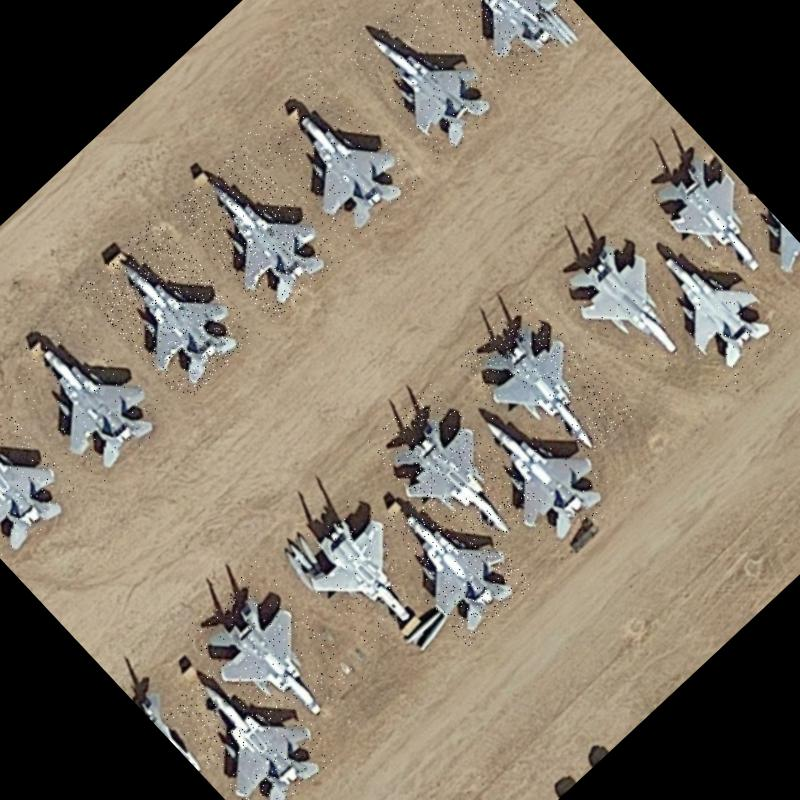A13: (439, 370, 626, 562), (178, 560, 365, 749), (77, 216, 264, 404), (242, 67, 426, 254), (540, 214, 722, 398), (456, 294, 636, 478), (366, 382, 546, 566), (0, 303, 176, 490), (168, 144, 346, 323), (624, 120, 794, 292), (366, 476, 535, 648), (627, 221, 794, 391), (336, 0, 510, 163), (161, 643, 341, 800), (282, 489, 442, 652), (0, 377, 82, 563), (418, 0, 587, 88)
